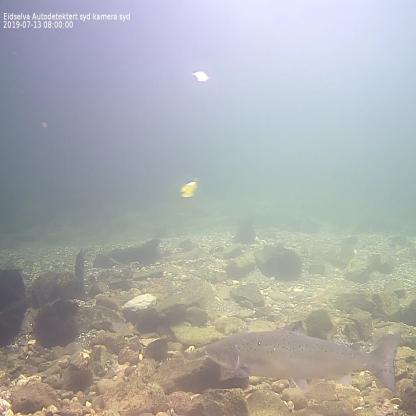salmon: (203, 320, 403, 396)
